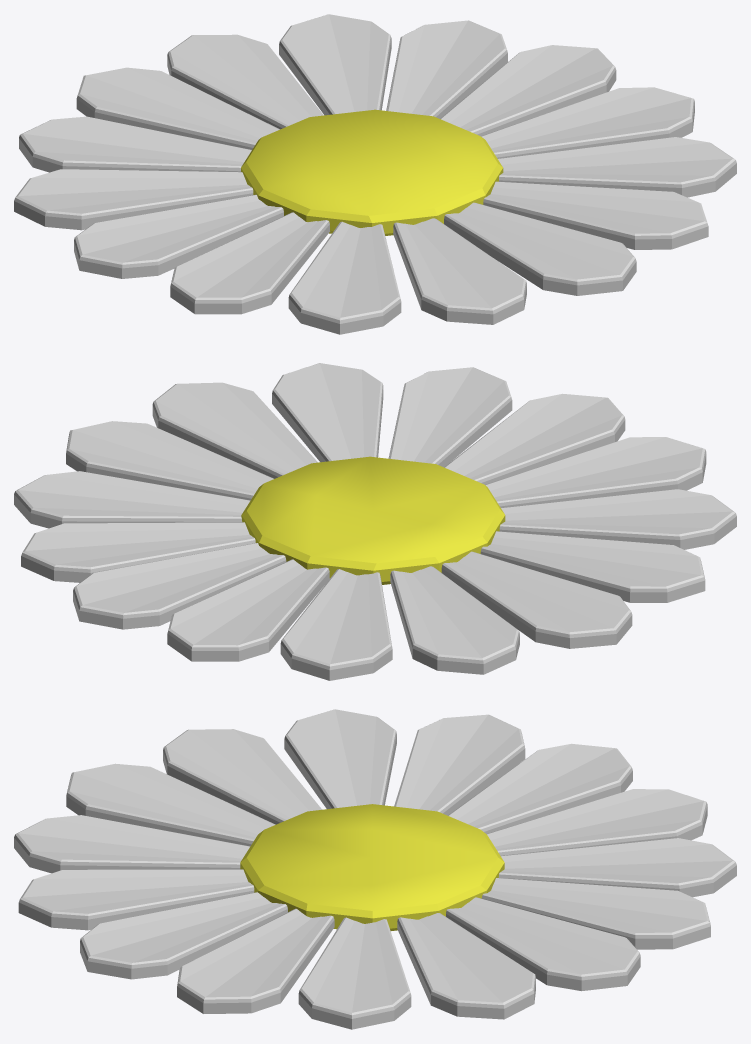
File: Flower_02.fbx
3 renders of one model, top to bottom at view 1: azimuth 30°, elevation 25°; view 2: azimuth 150°, elevation 25°; view 3: azimuth 270°, elevation 25°, orthographic.
Visible parts, largest first — view 1: Flower_02; view 2: Flower_02; view 3: Flower_02.
Boxes of the visible parts, x1=… form: Flower_02: x1=14, y1=14, x2=736, y2=334; Flower_02: x1=14, y1=363, x2=736, y2=680; Flower_02: x1=14, y1=709, x2=736, y2=1029.
Bounding box in the file's own units: 20.17 × 0.6823 × 20.08.
